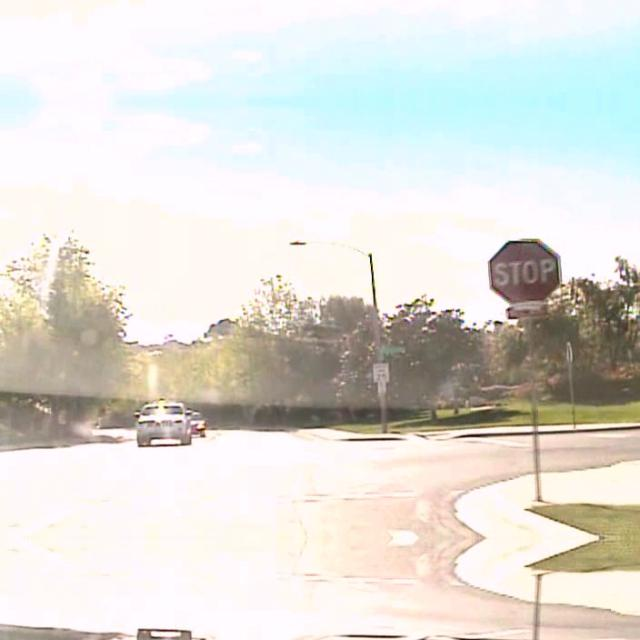stop: (488, 236, 560, 304)
